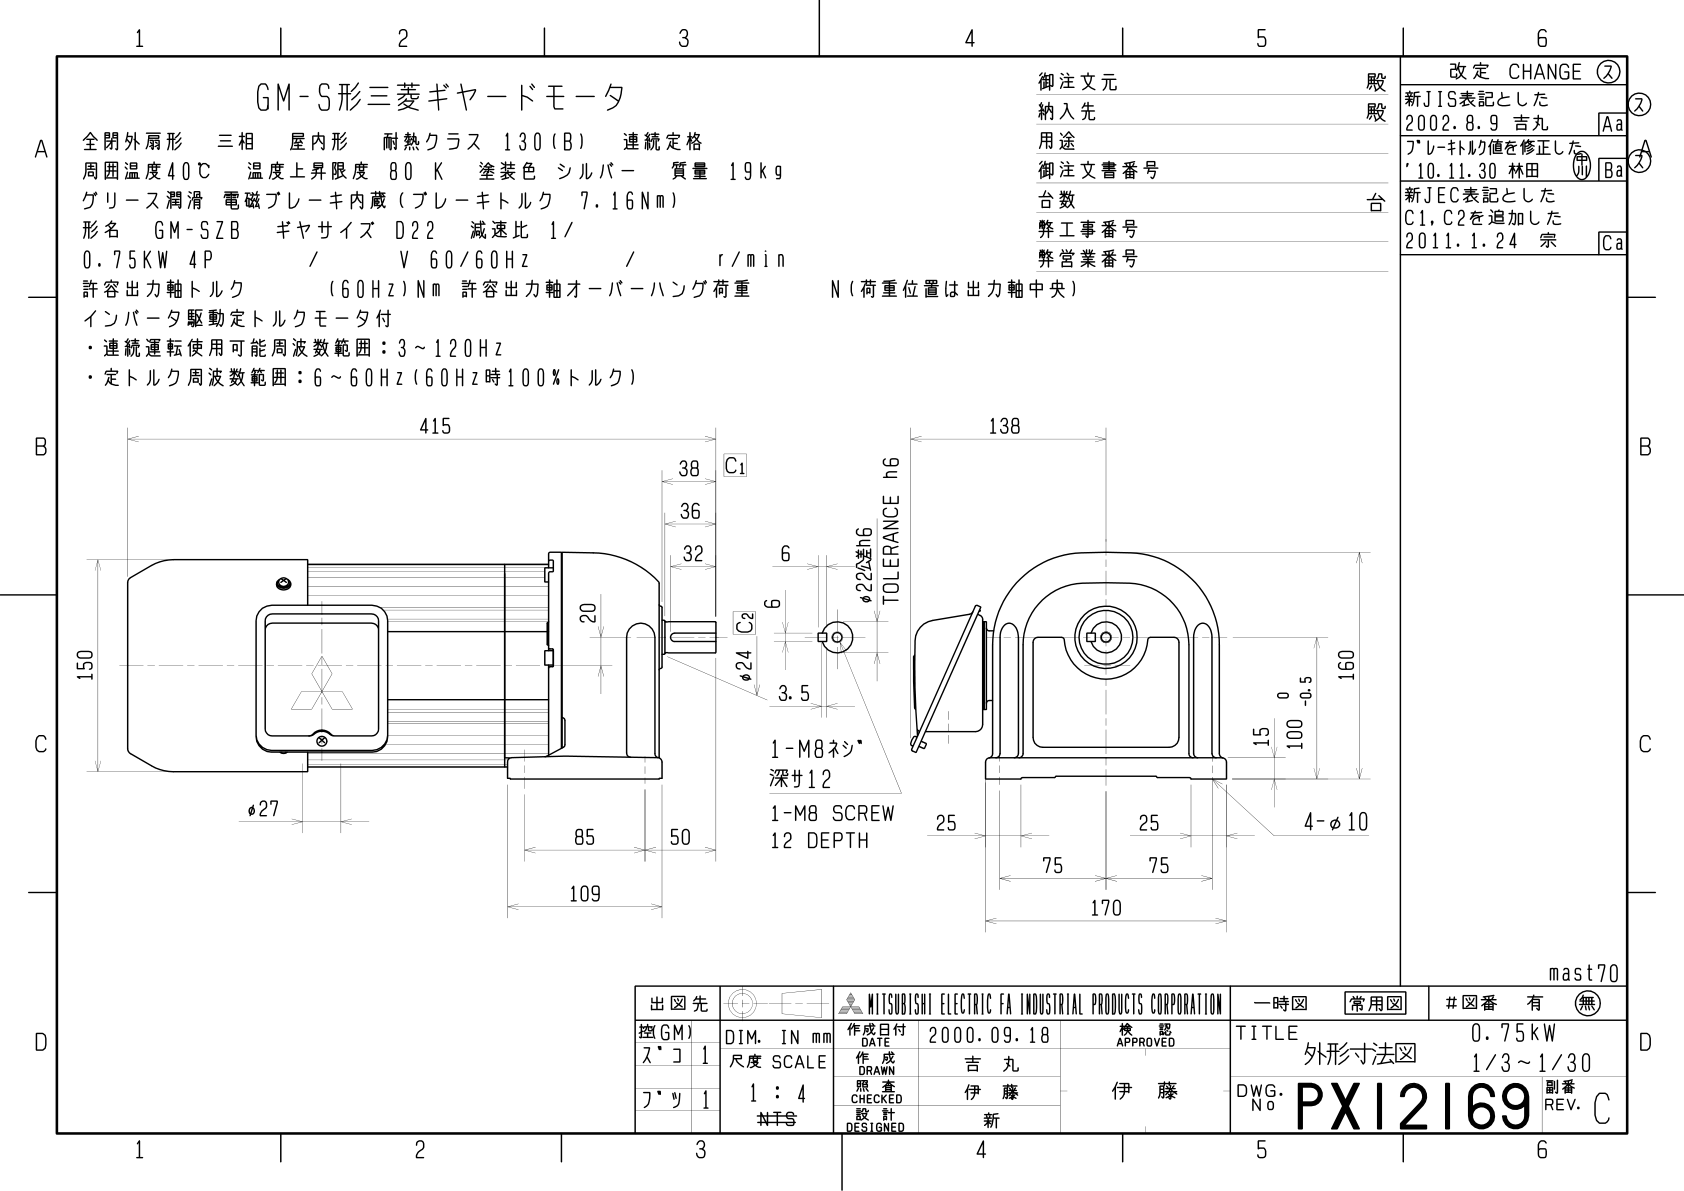GM_S_インバタ屋外＿三相_脚: (71, 385, 1383, 959)
